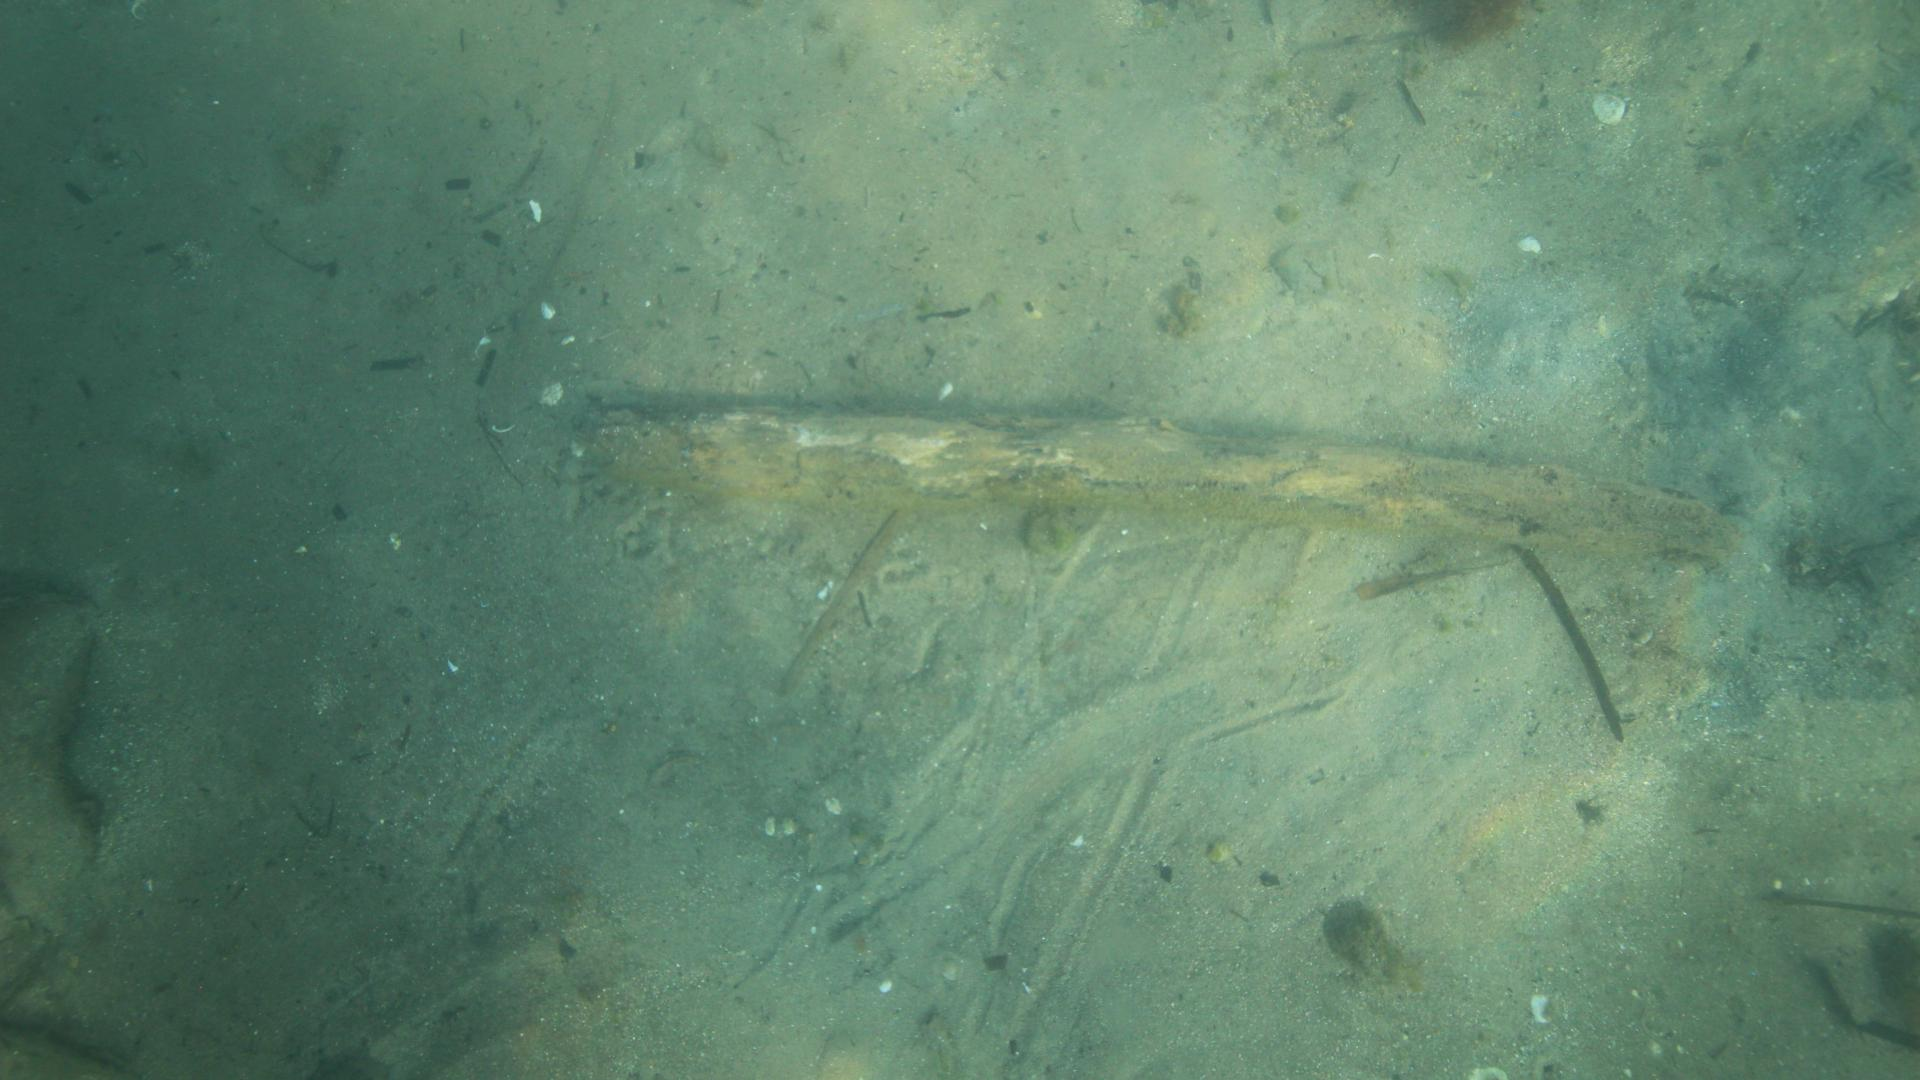wood: (553, 385, 1698, 607)
